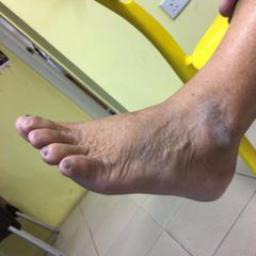Lateral View -Left Foot-: (8, 50, 248, 215)
